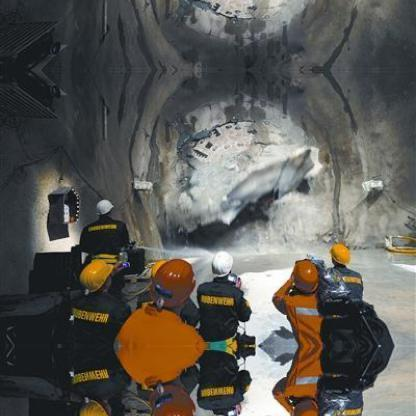helmet: (149, 255, 195, 307), (77, 253, 116, 298), (288, 254, 320, 297), (209, 248, 239, 278), (328, 240, 355, 270), (90, 194, 121, 217)
